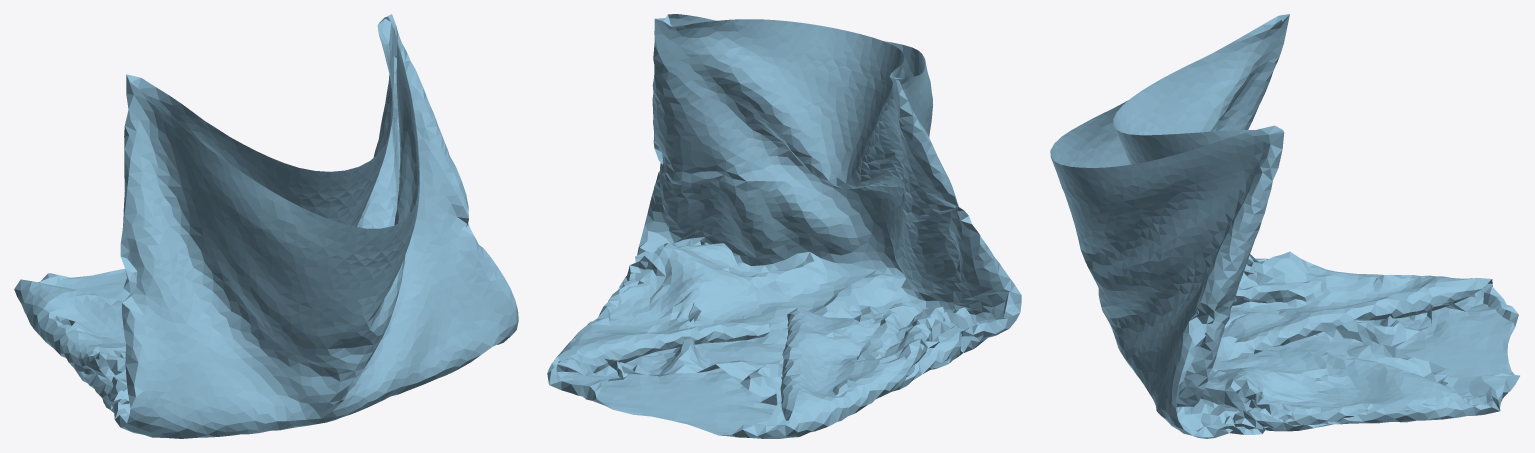
Rendered from frame_13.glb.
3 renders of one model, left to right at view 1: azimuth 30°, elevation 25°; view 2: azimuth 150°, elevation 25°; view 3: azimuth 270°, elevation 25°, orthographic. The views are drawn at different scales.
Visible parts, largest first — view 1: frame_13.obj; view 2: frame_13.obj; view 3: frame_13.obj.
Part boxes in pixels (<box>): frame_13.obj: <box>14,14,518,438</box>; frame_13.obj: <box>547,14,1021,438</box>; frame_13.obj: <box>1050,14,1519,438</box>.
Bounding box in the file's own units: 1.09 × 0.8334 × 1.21.
